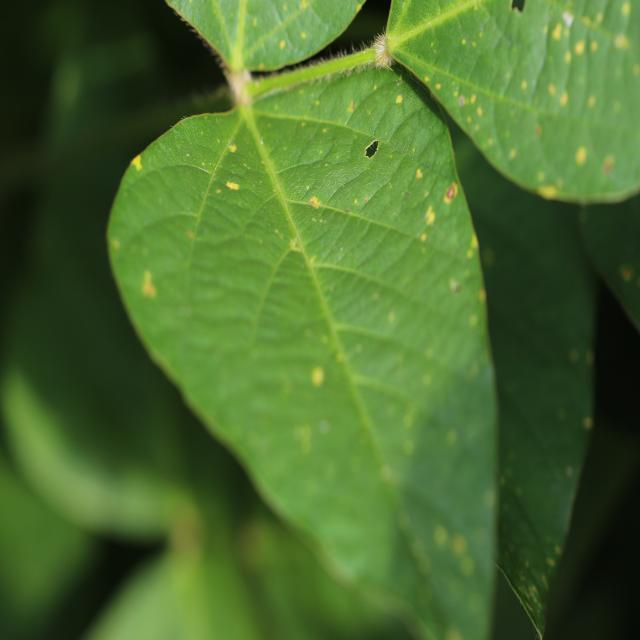Soybean: (14, 0, 502, 640)
downey_mildew: (279, 265, 428, 480), (166, 141, 279, 268), (161, 517, 268, 635), (406, 494, 485, 615), (401, 169, 480, 281), (537, 28, 594, 116), (173, 134, 240, 200), (168, 6, 229, 77), (291, 383, 341, 461), (562, 168, 640, 204), (452, 80, 492, 138), (170, 509, 203, 556), (514, 572, 544, 618), (371, 29, 393, 67), (618, 261, 640, 293), (352, 191, 376, 211), (141, 271, 157, 299), (298, 424, 313, 446), (444, 181, 458, 203), (365, 139, 380, 158), (311, 367, 325, 387), (614, 34, 629, 50), (540, 185, 557, 199), (130, 154, 143, 172), (575, 146, 587, 165), (511, 0, 527, 13), (562, 11, 574, 28), (603, 158, 614, 175), (552, 24, 562, 41), (568, 348, 579, 363), (575, 40, 585, 55), (621, 2, 631, 17), (582, 416, 593, 429), (585, 350, 594, 364), (111, 238, 121, 250), (387, 311, 396, 324), (541, 574, 549, 588), (425, 348, 434, 360), (548, 83, 556, 96), (535, 124, 542, 138), (228, 143, 237, 153), (565, 466, 573, 477), (373, 291, 381, 302), (509, 148, 516, 160), (458, 95, 465, 107), (395, 94, 403, 104), (416, 168, 423, 179), (520, 80, 527, 91), (348, 101, 355, 112), (547, 557, 555, 566), (279, 40, 286, 50), (187, 229, 194, 239), (355, 4, 362, 13), (470, 94, 476, 104), (420, 233, 426, 243), (500, 476, 506, 486), (405, 190, 411, 198), (424, 75, 430, 82), (258, 63, 264, 70), (343, 208, 350, 214), (181, 115, 188, 121), (301, 31, 306, 39), (396, 79, 401, 87), (201, 161, 206, 168), (436, 83, 441, 90), (305, 184, 310, 191), (461, 39, 466, 46), (353, 198, 358, 204), (260, 139, 264, 146), (169, 124, 174, 129), (186, 153, 190, 158), (208, 161, 212, 166)
